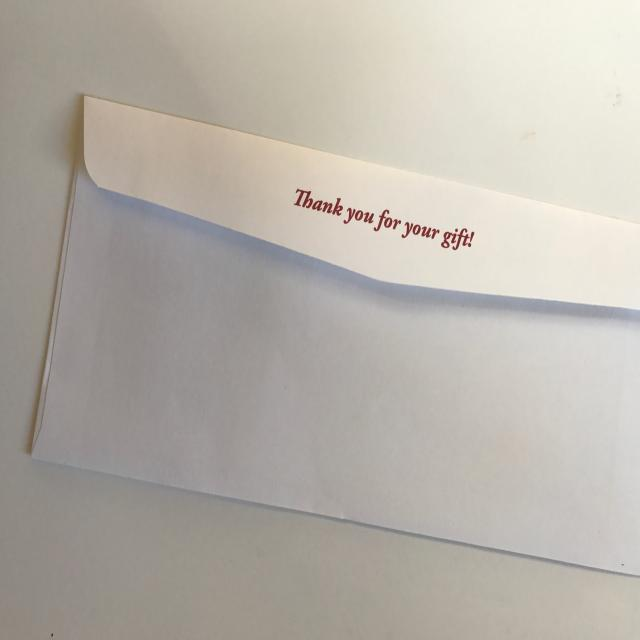paper: (0, 82, 640, 598)
